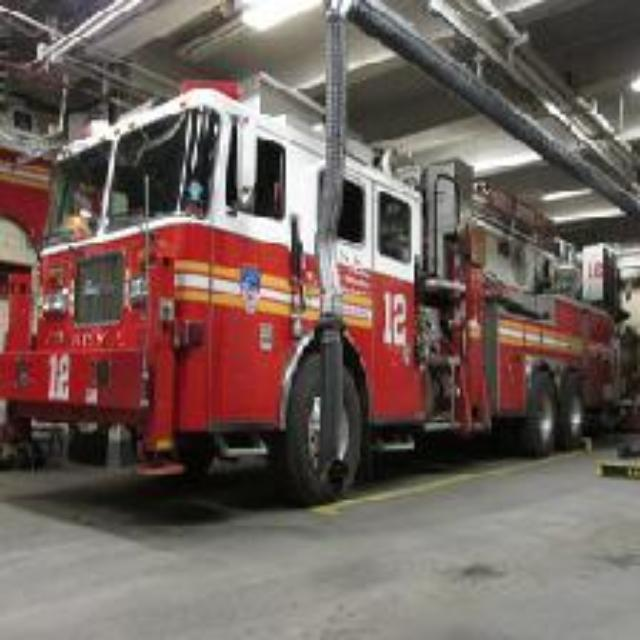emergency: (28, 61, 484, 481)
